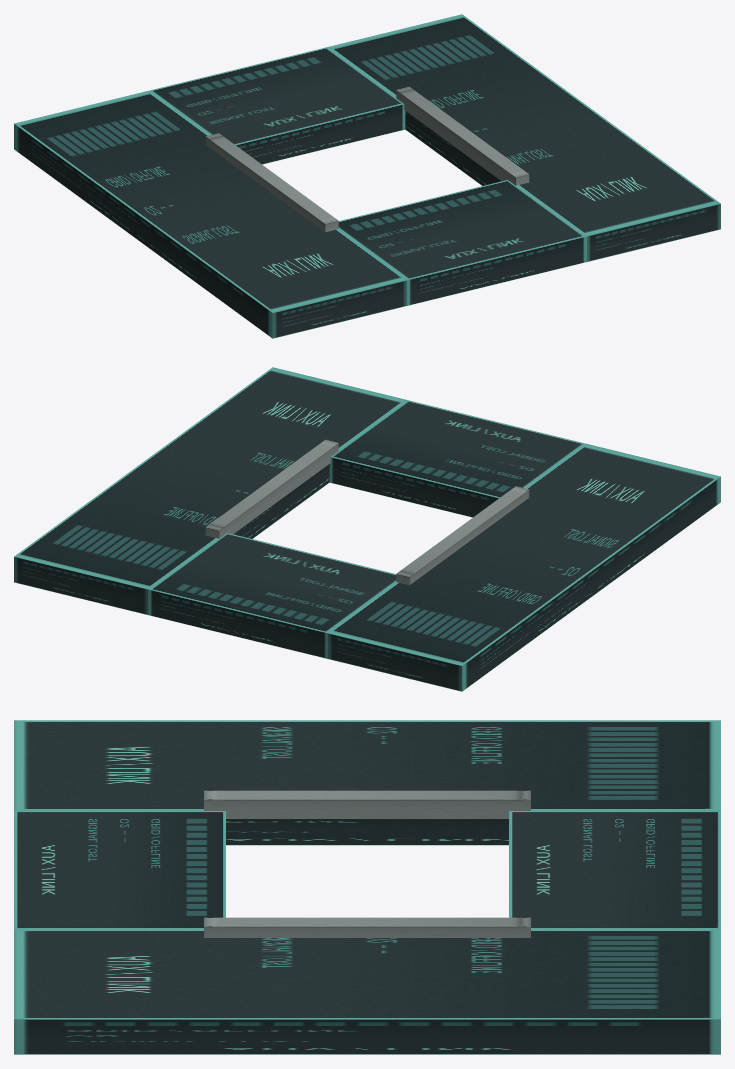
The model's file is roof_skylight_4m_LOD2.obj.
3 renders of one model, top to bottom at view 1: azimuth 30°, elevation 25°; view 2: azimuth 150°, elevation 25°; view 3: azimuth 270°, elevation 25°, orthographic. The views are drawn at different scales.
Parts seen in each view (by area): view 1: L02_roof_skylight_4m_LOD2; view 2: L02_roof_skylight_4m_LOD2; view 3: L02_roof_skylight_4m_LOD2.
Part boxes in pixels (x1,y1,x2,y2): L02_roof_skylight_4m_LOD2: [14, 14, 720, 338]; L02_roof_skylight_4m_LOD2: [14, 367, 720, 691]; L02_roof_skylight_4m_LOD2: [14, 720, 720, 1054].
Size of the model in its own units: 4 by 0.29 by 4.
Materials: 1 (1 with a texture image).
